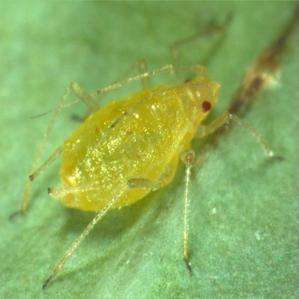Green peach aphid: (28, 45, 251, 257)
